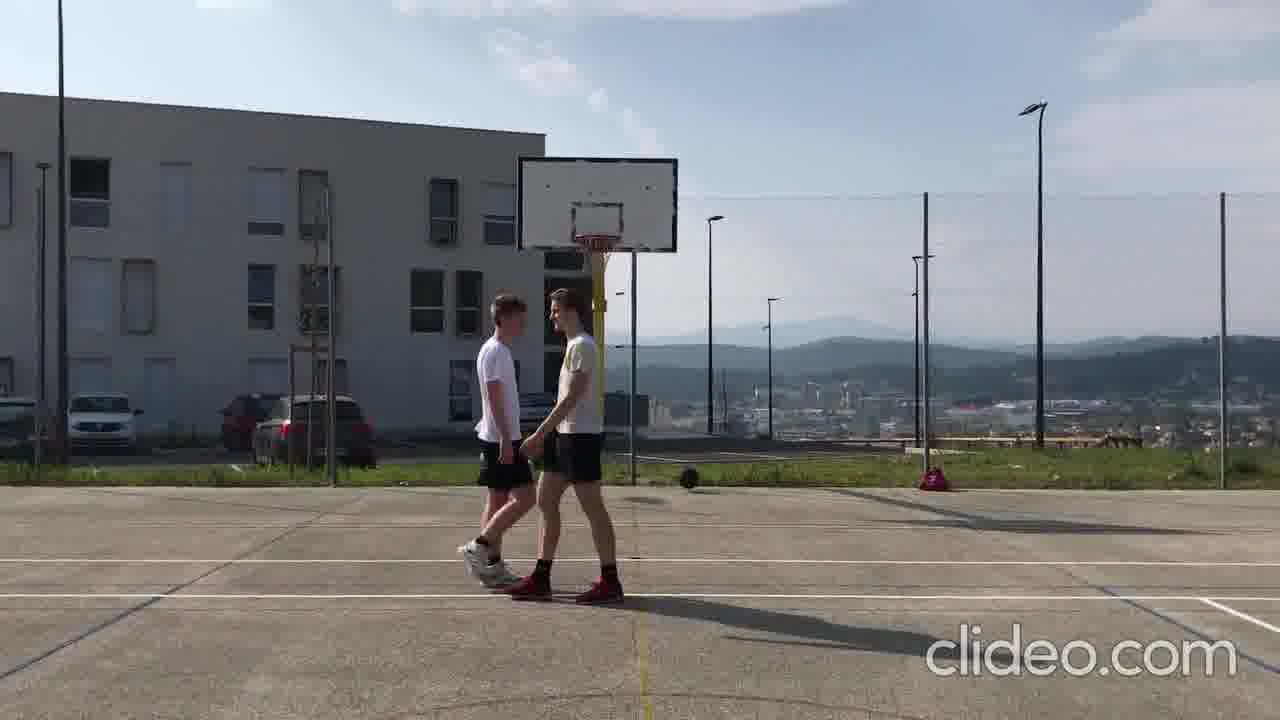jugador: (502, 279, 635, 610)
